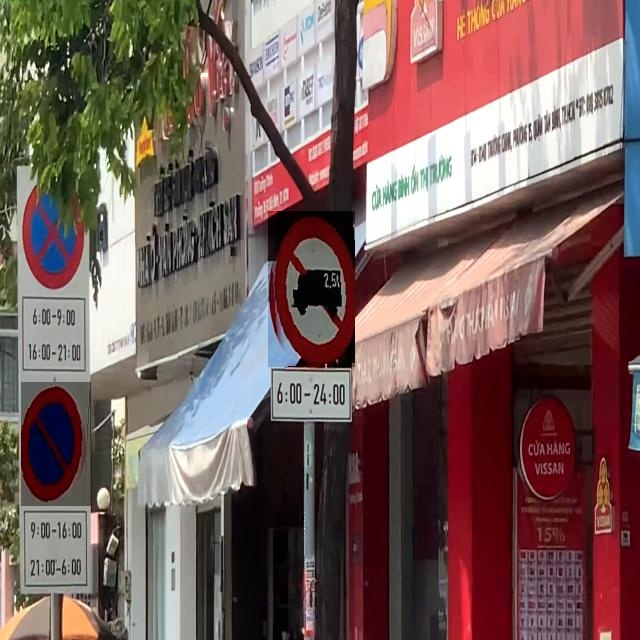bien_cam: (268, 211, 355, 367), (21, 382, 91, 506)
